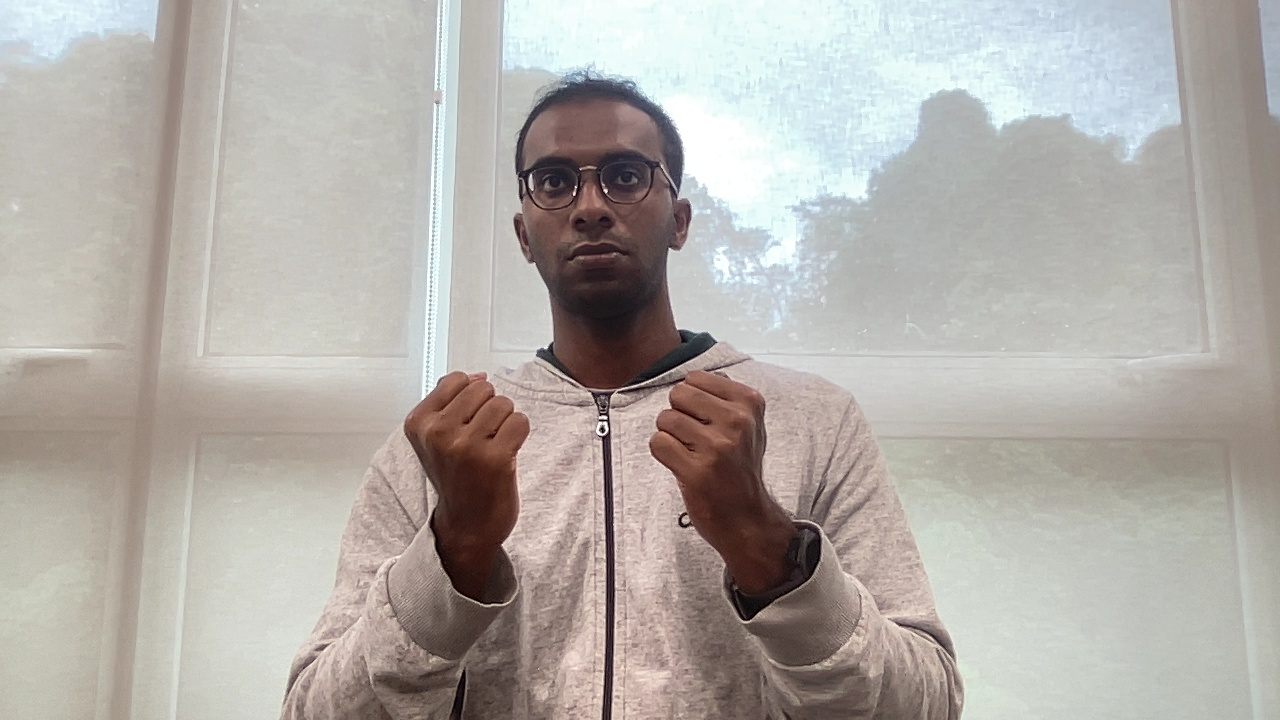finish: (395, 364, 790, 503)
